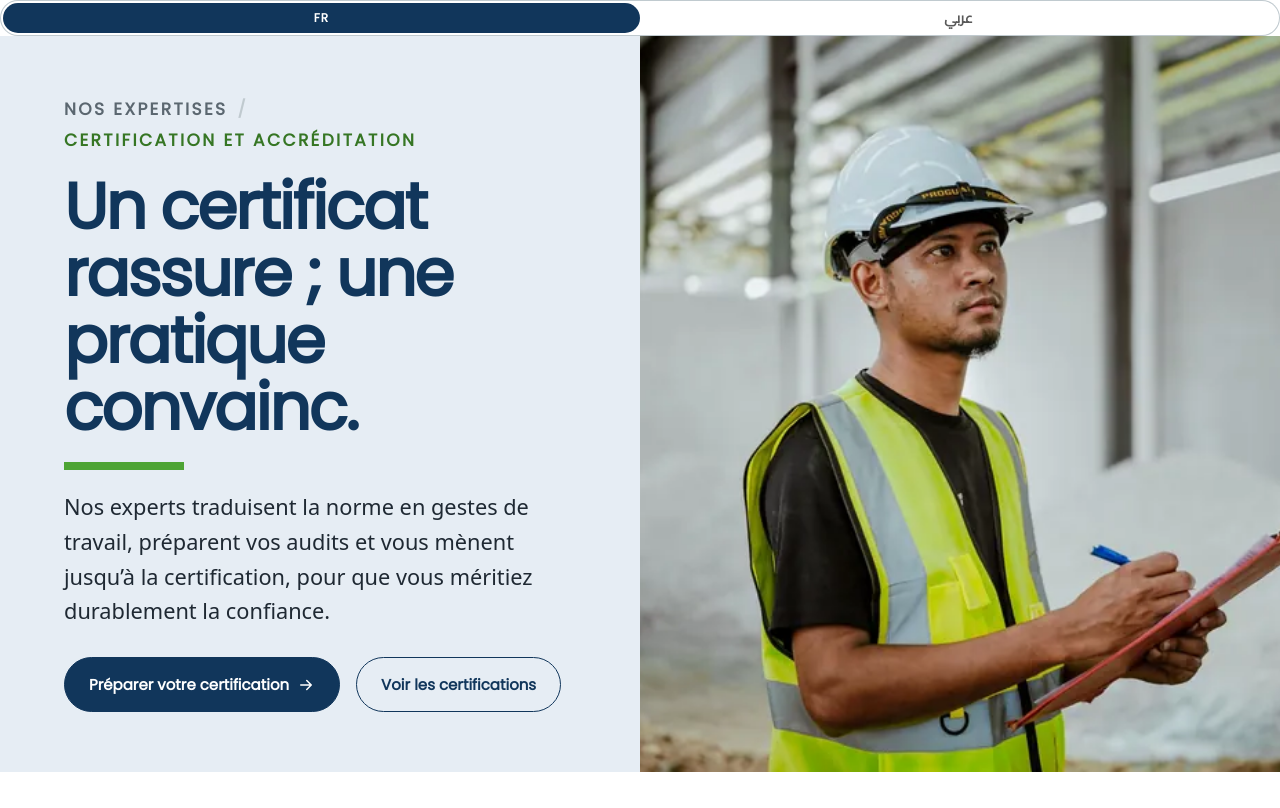
it: Page « Certification et accréditation » › passe en arabe
What coordinates should you click on to do the following:
click the button "عربي"
I would click on:
 (958, 18)
Its box is [640, 3, 1277, 33].
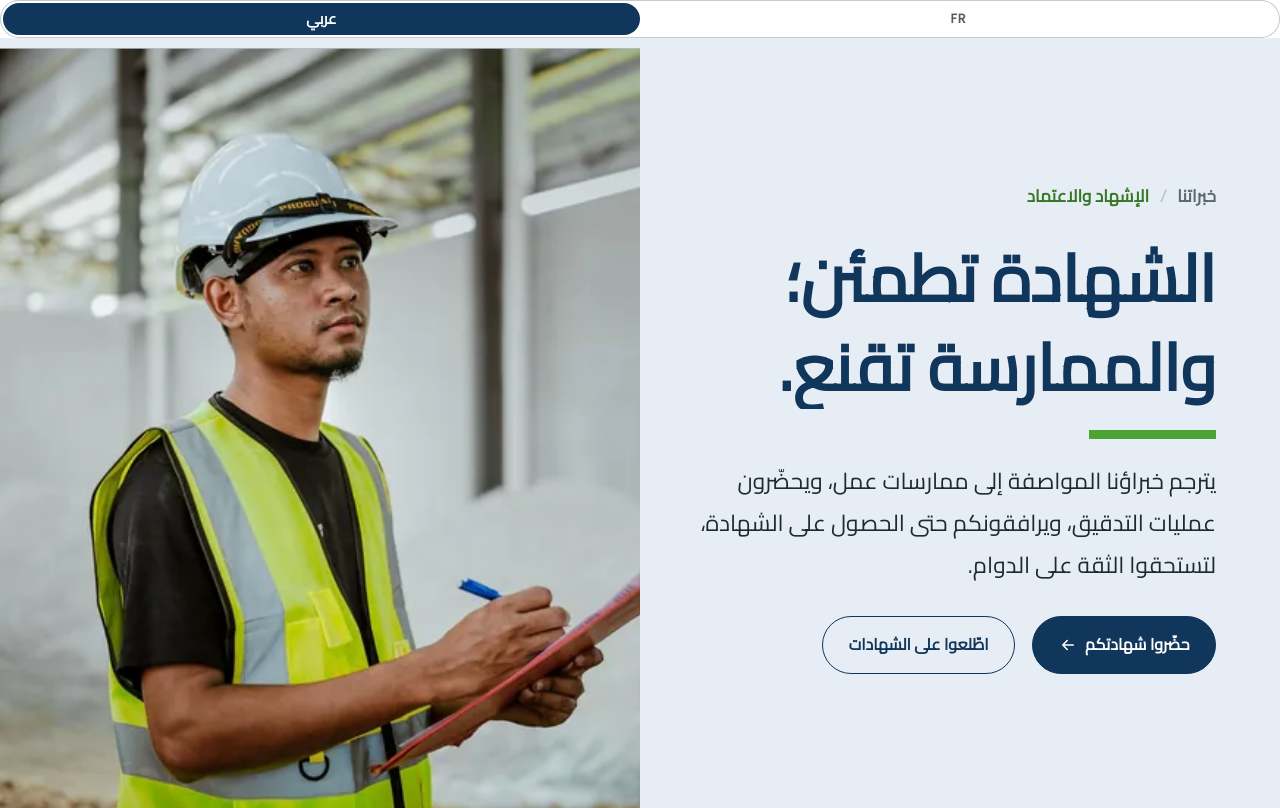
Now the heading reads "الشهادة تطمئن؛ والممارسة تقنع.", box [778, 216, 1216, 428]
